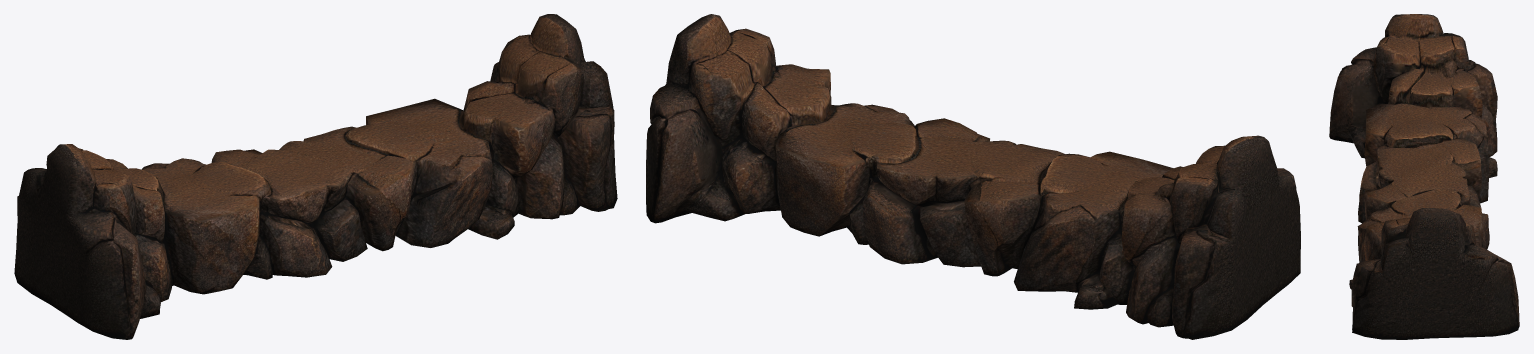
The model's file is stone+wall+3d+model.fbx.
3 renders of one model, left to right at view 1: azimuth 30°, elevation 25°; view 2: azimuth 150°, elevation 25°; view 3: azimuth 270°, elevation 25°, orthographic. The views are drawn at different scales.
Visible parts, largest first — view 1: tripo_12a57b5d_28fe_4c79_ae54_bb1f80e68ae3; view 2: tripo_12a57b5d_28fe_4c79_ae54_bb1f80e68ae3; view 3: tripo_12a57b5d_28fe_4c79_ae54_bb1f80e68ae3.
Boxes of the visible parts, x1,y1,x2,y2 form: tripo_12a57b5d_28fe_4c79_ae54_bb1f80e68ae3: (14, 14, 617, 339); tripo_12a57b5d_28fe_4c79_ae54_bb1f80e68ae3: (646, 14, 1300, 339); tripo_12a57b5d_28fe_4c79_ae54_bb1f80e68ae3: (1329, 14, 1519, 339).
Bounding box in the file's own units: 0.9995 × 0.271 × 0.3765.
Materials: 1 (1 with a texture image).
